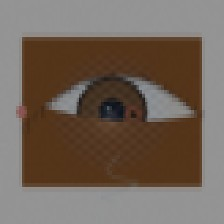foreign_body_visible: (122, 105, 143, 122)
